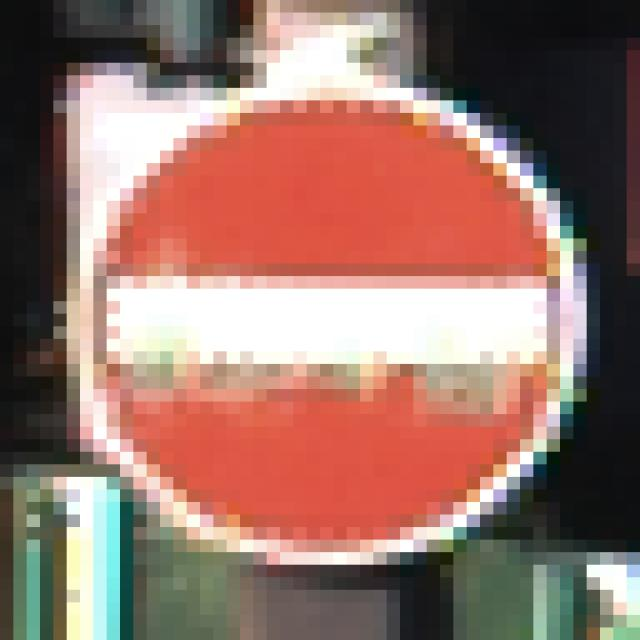No Entry: (68, 64, 574, 578)
